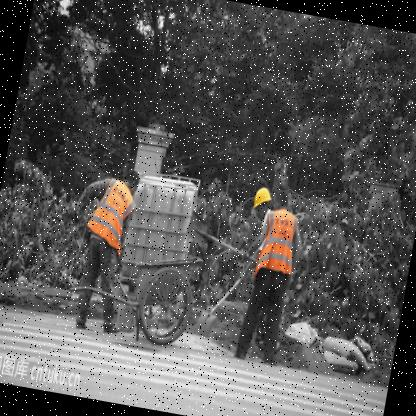capacete: (248, 182, 275, 222)
colete_refletivo: (82, 178, 138, 254), (254, 206, 303, 278)
sem_capacete: (119, 166, 142, 200), (269, 186, 294, 216)
